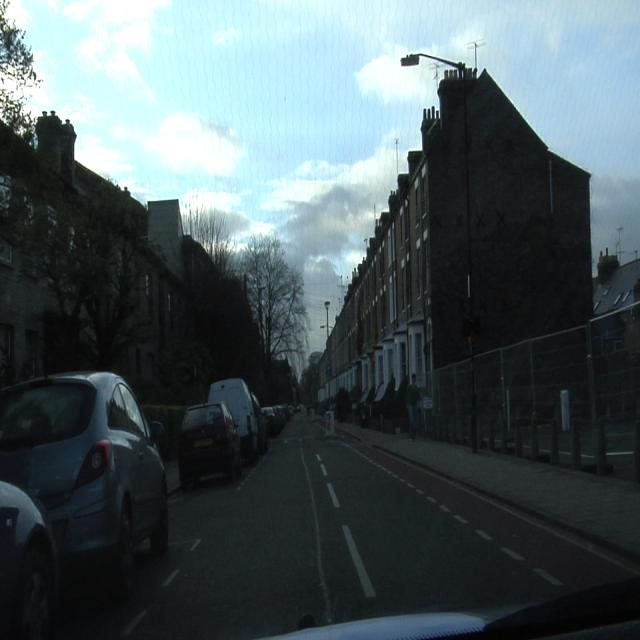Building: (321, 65, 592, 397)
Car: (1, 376, 167, 637), (179, 403, 239, 488), (264, 406, 284, 434)
Road: (46, 417, 633, 637)
Tree: (1, 0, 165, 374), (182, 205, 309, 401)
Truck_Bus: (209, 378, 259, 463)
